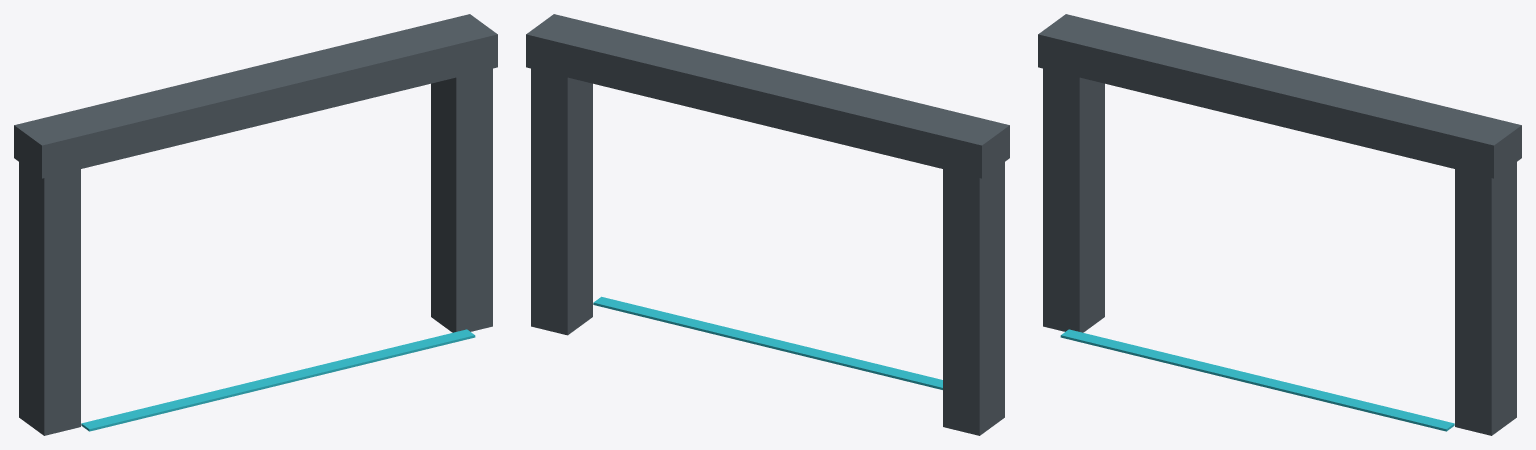
Rendered from door.double_swing_clear.glb.
3 renders of one model, left to right at view 1: azimuth 30°, elevation 25°; view 2: azimuth 150°, elevation 25°; view 3: azimuth 330°, elevation 25°, orthographic.
Parts seen in each view (by area): view 1: header, left_jamb, right_jamb, swing_arc_paint; view 2: header, left_jamb, right_jamb, swing_arc_paint; view 3: header, right_jamb, left_jamb, swing_arc_paint.
Boxes of the visible parts, left/top/right/bottom form: header: left=14, top=14, right=497, bottom=178; left_jamb: left=19, top=162, right=80, bottom=435; right_jamb: left=431, top=68, right=492, bottom=332; swing_arc_paint: left=81, top=329, right=475, bottom=431; header: left=526, top=14, right=1009, bottom=178; left_jamb: left=943, top=162, right=1004, bottom=435; right_jamb: left=531, top=68, right=592, bottom=335; swing_arc_paint: left=593, top=296, right=942, bottom=389; header: left=1038, top=14, right=1521, bottom=178; right_jamb: left=1455, top=162, right=1516, bottom=435; left_jamb: left=1043, top=68, right=1104, bottom=332; swing_arc_paint: left=1060, top=329, right=1454, bottom=431.
Size of the model in its own units: 5.2 by 3.18 by 0.795.
